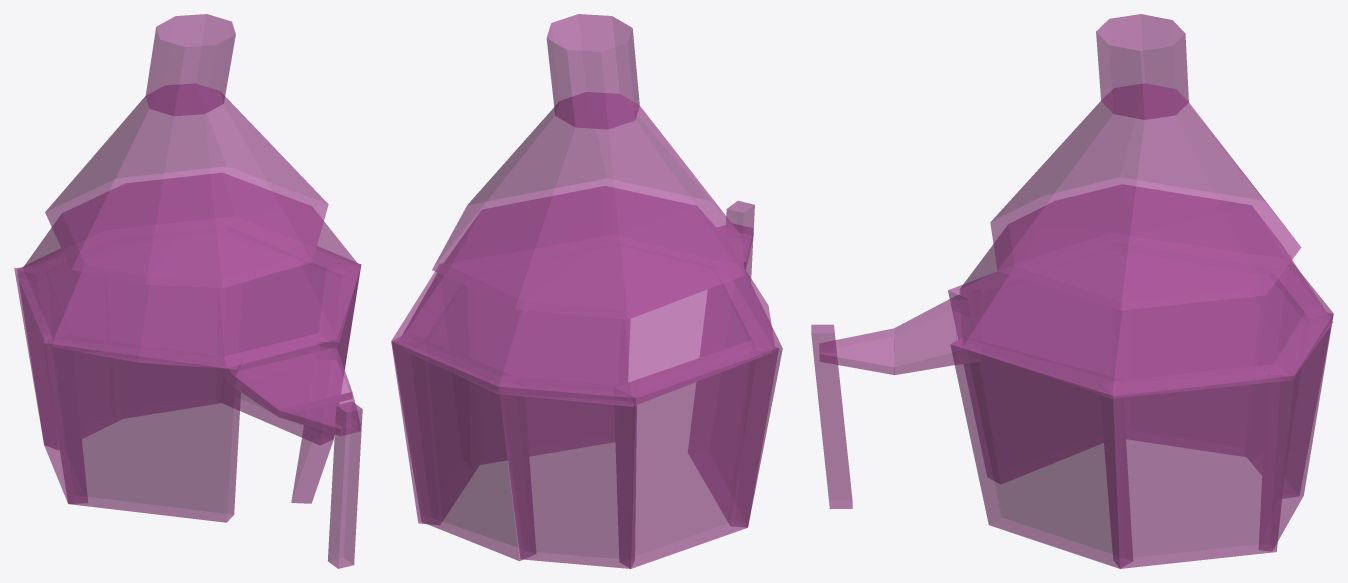
File: SM_Bld_Tent_Small_03_Collision.fbx
The picture shows the model from 3 angles, left to right: view 1: azimuth 30°, elevation 25°; view 2: azimuth 150°, elevation 25°; view 3: azimuth 270°, elevation 25°; orthographic projection. The views are drawn at different scales.
Parts seen in each view (by area): view 1: SM_Bld_Tent_Small_03_Collision; view 2: SM_Bld_Tent_Small_03_Collision; view 3: SM_Bld_Tent_Small_03_Collision.
Part boxes in pixels (x1,y1,x2,y2): SM_Bld_Tent_Small_03_Collision: (14, 14, 362, 568); SM_Bld_Tent_Small_03_Collision: (391, 14, 782, 568); SM_Bld_Tent_Small_03_Collision: (811, 14, 1333, 568).
Bounding box in the file's own units: 554 × 720 × 726.
